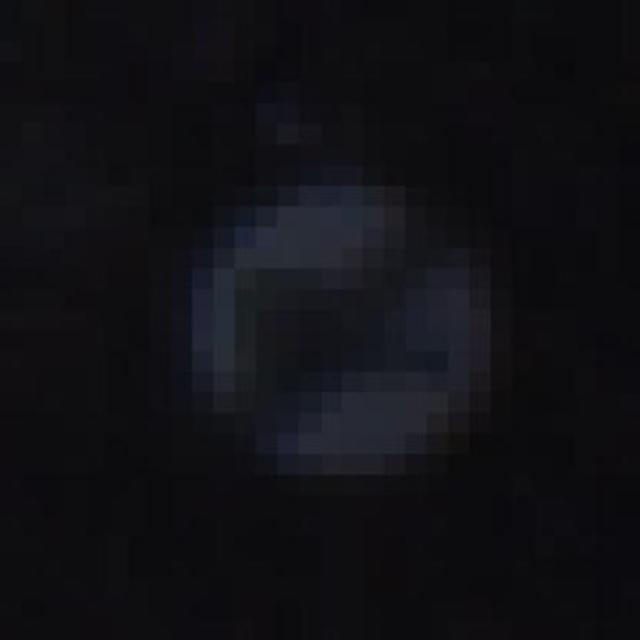Overtaking by trucks is prohibited: (128, 82, 555, 516)
